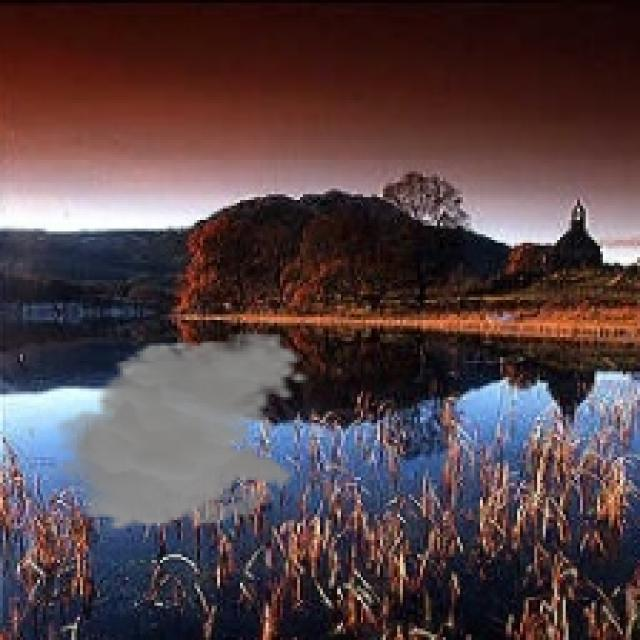smoke: (45, 332, 308, 532)
